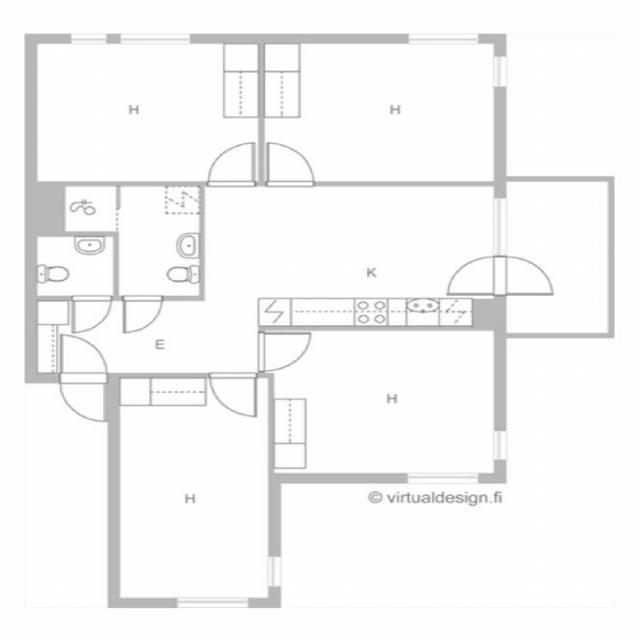door: (448, 256, 506, 294), (494, 256, 552, 294), (61, 337, 105, 383), (61, 373, 105, 419), (258, 333, 309, 371), (208, 144, 254, 186), (210, 373, 256, 415), (269, 144, 314, 186), (73, 296, 111, 332), (124, 296, 162, 332)
